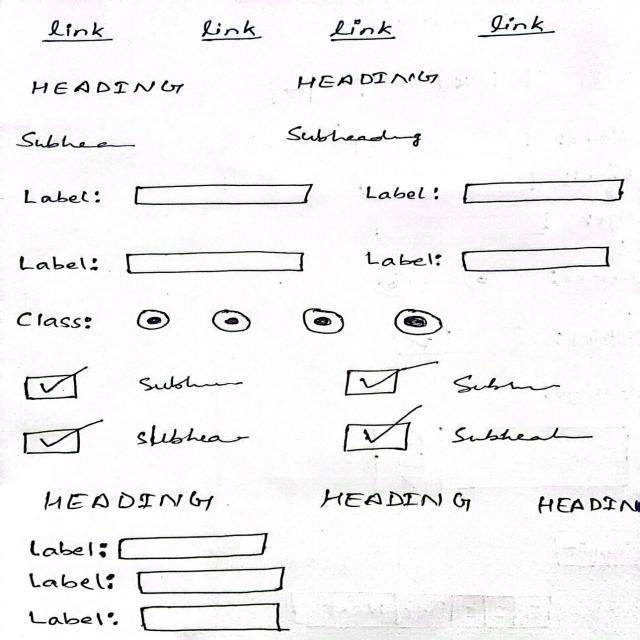radio: (389, 294, 457, 338), (132, 303, 190, 339), (301, 305, 354, 343), (209, 301, 266, 336)
textbox: (122, 171, 330, 211), (121, 246, 312, 282), (134, 564, 301, 594), (459, 244, 623, 274), (460, 178, 640, 205), (117, 531, 278, 558), (134, 603, 289, 630)
